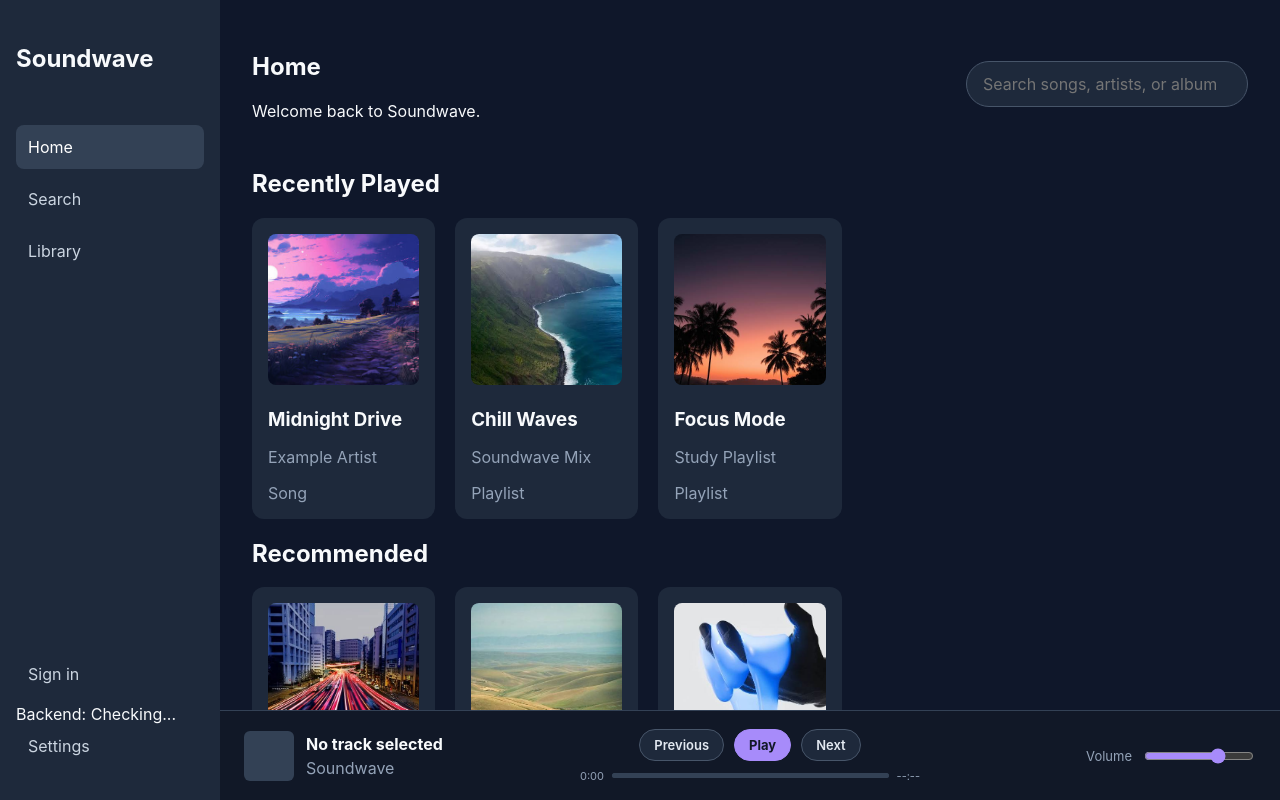
Sprint 4 Task 2 - App login API wiring › submits the login page to the centralized auth API service
Click the button "Sign in" at (110, 674), box [16,652,204,696]
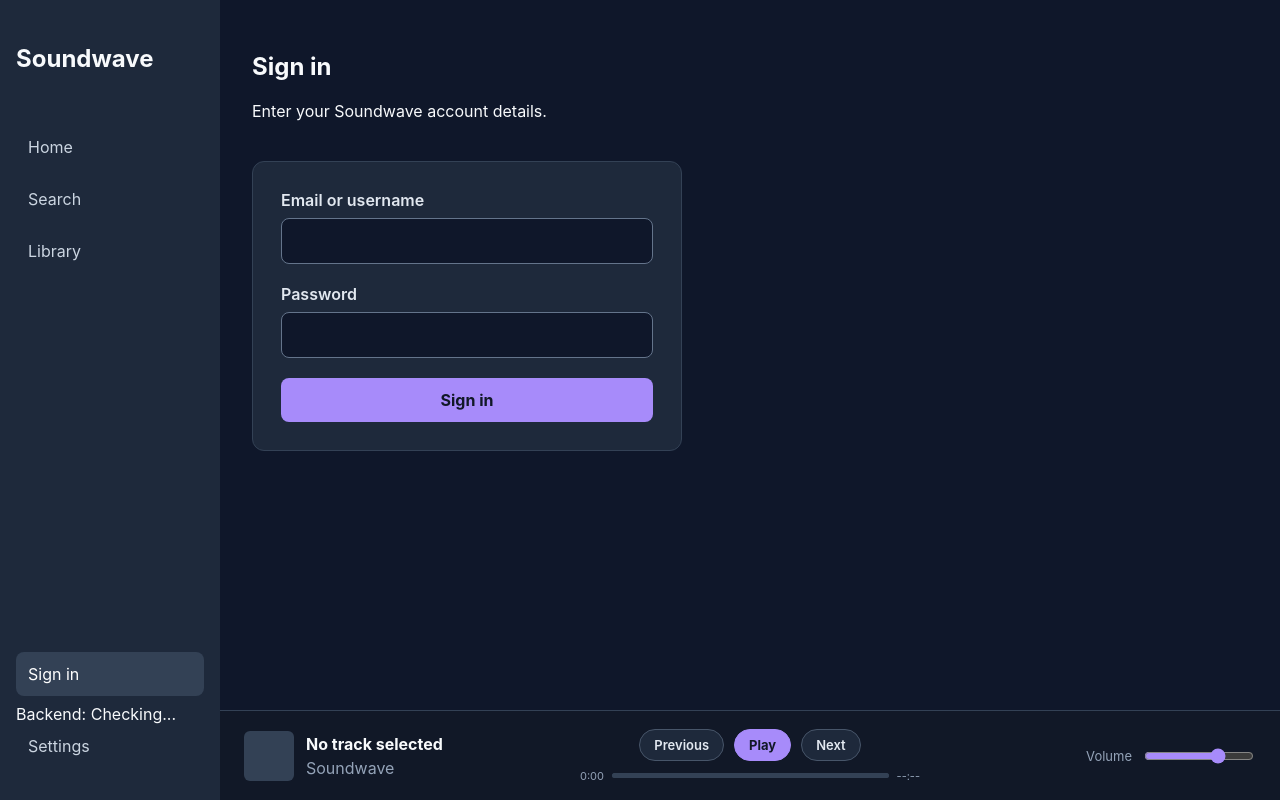
Type "listener" into the field labelled "Email or username" at (467, 241), box [281,218,653,264]
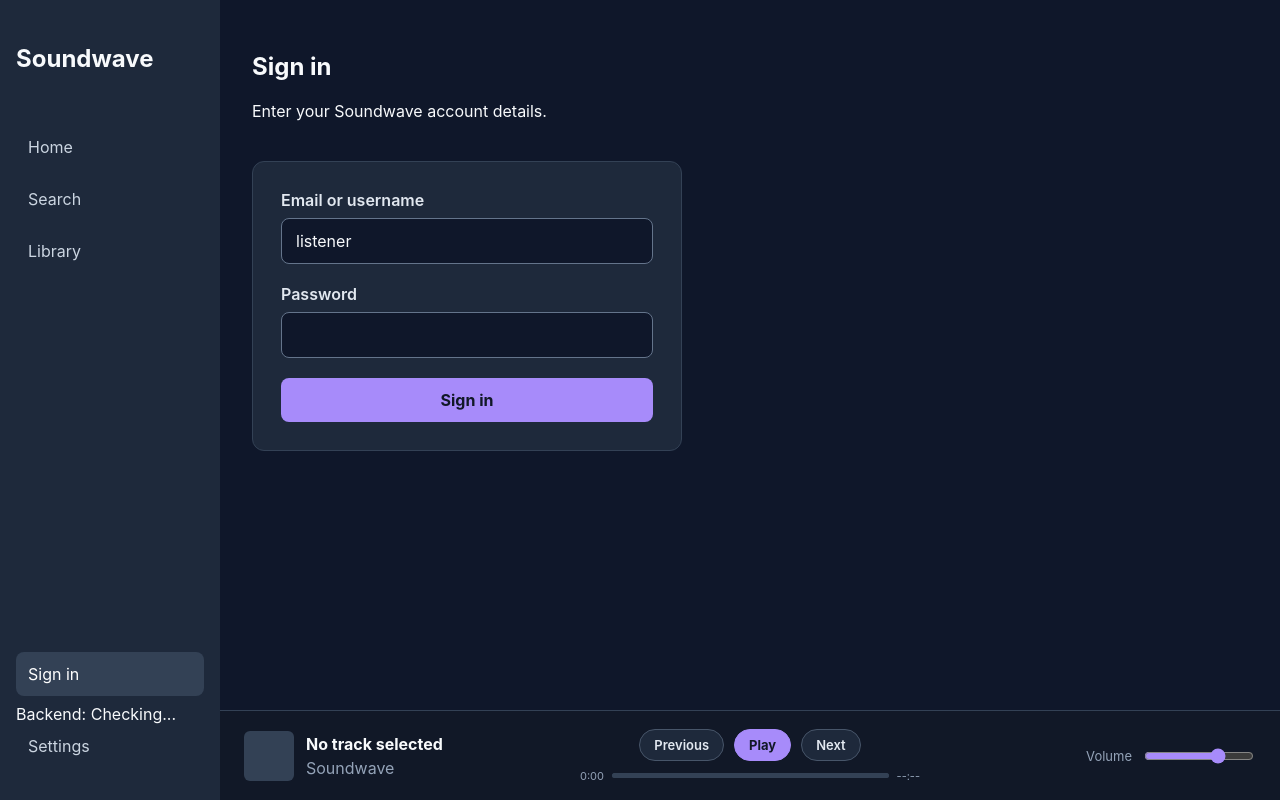
Type "synthetic-only" into the password field labelled "Password" at (467, 335), box [281,312,653,358]
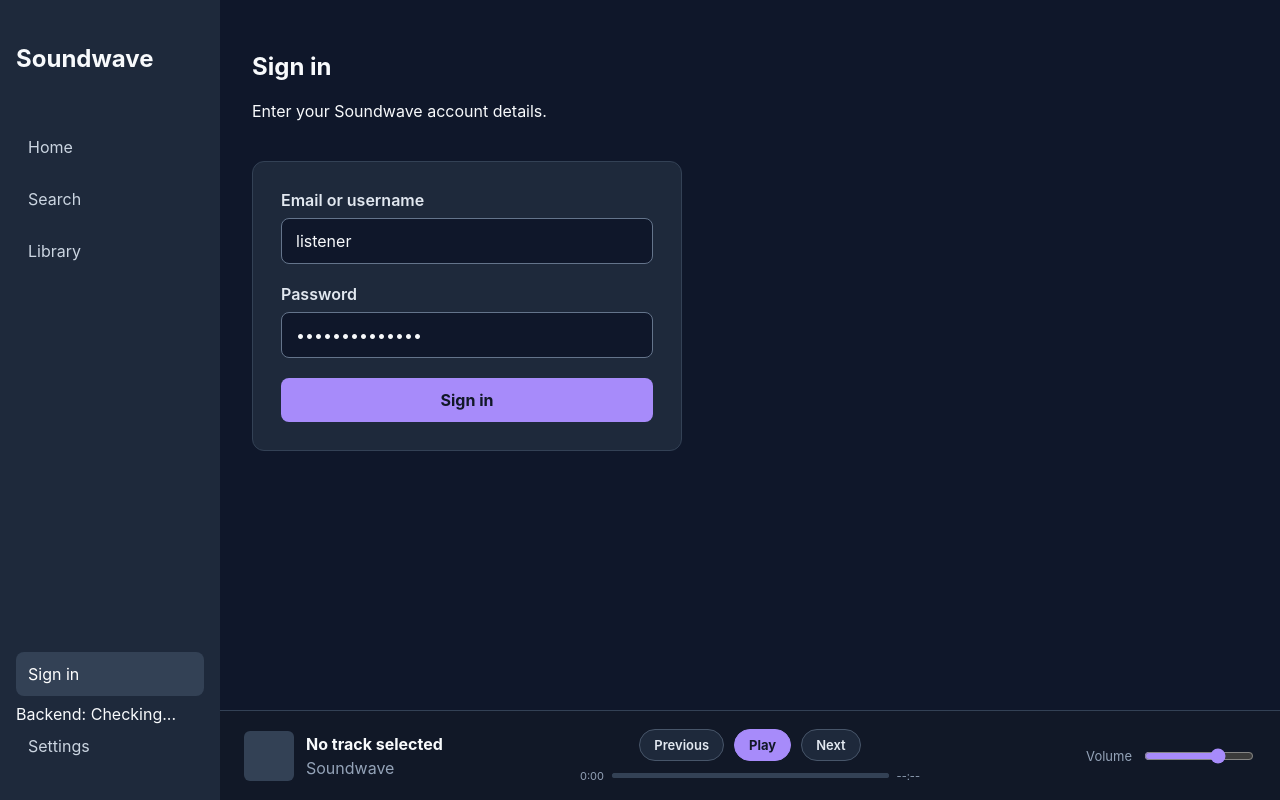
Click the button "Sign in" below "Password" at (467, 400), box [281,378,653,422]
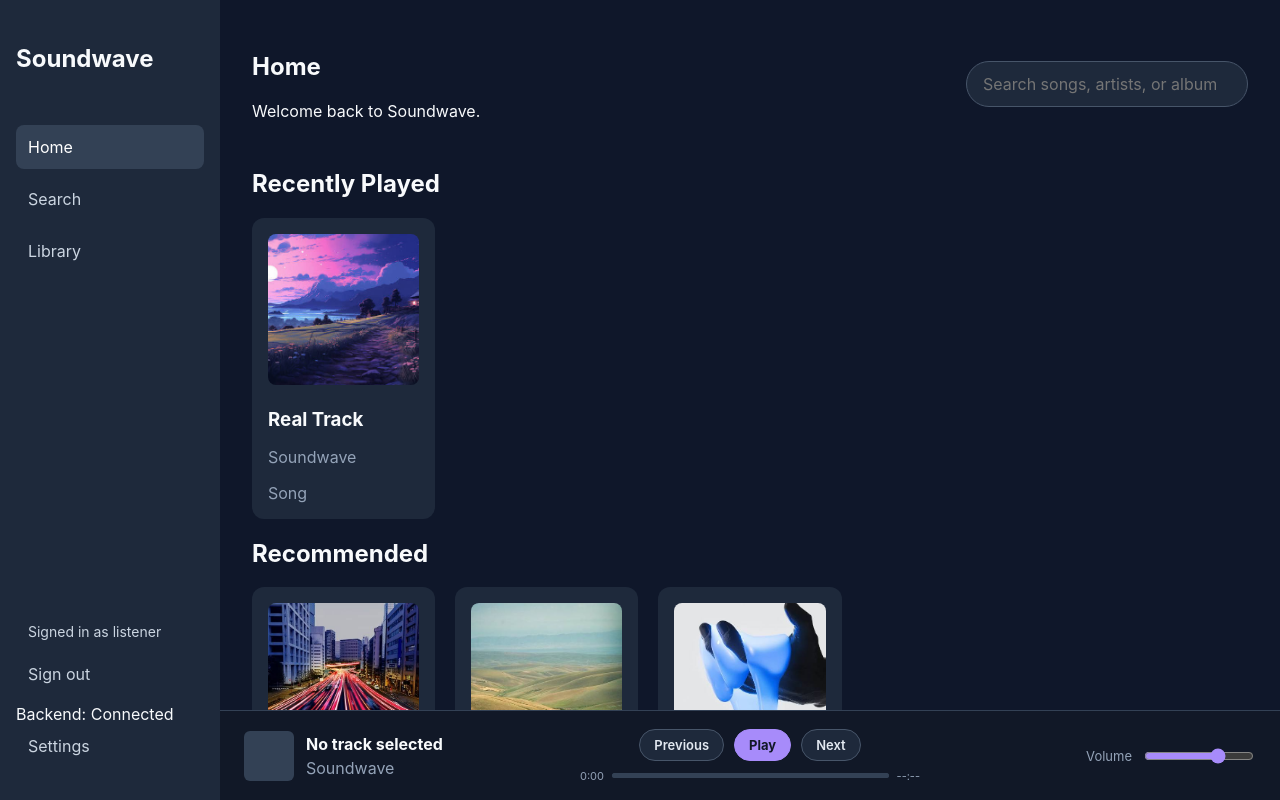
Expected: the text "Signed in as listener" is shown, [28,623,161,640]
Expected: the button "Sign out" is shown, [16,652,204,696]
